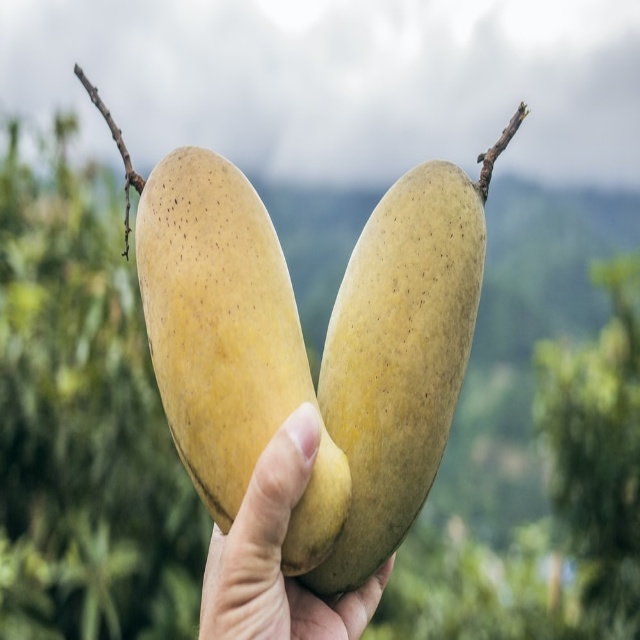mango: (135, 146, 350, 577), (315, 151, 480, 591)
